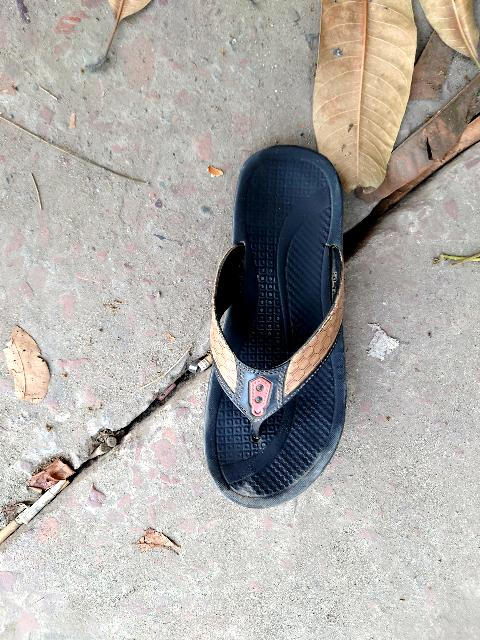sandal: (185, 156, 353, 507)
